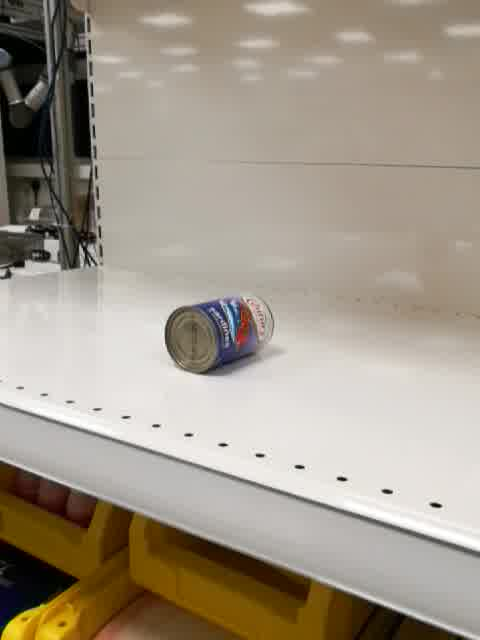sardine: (164, 293, 276, 376)
